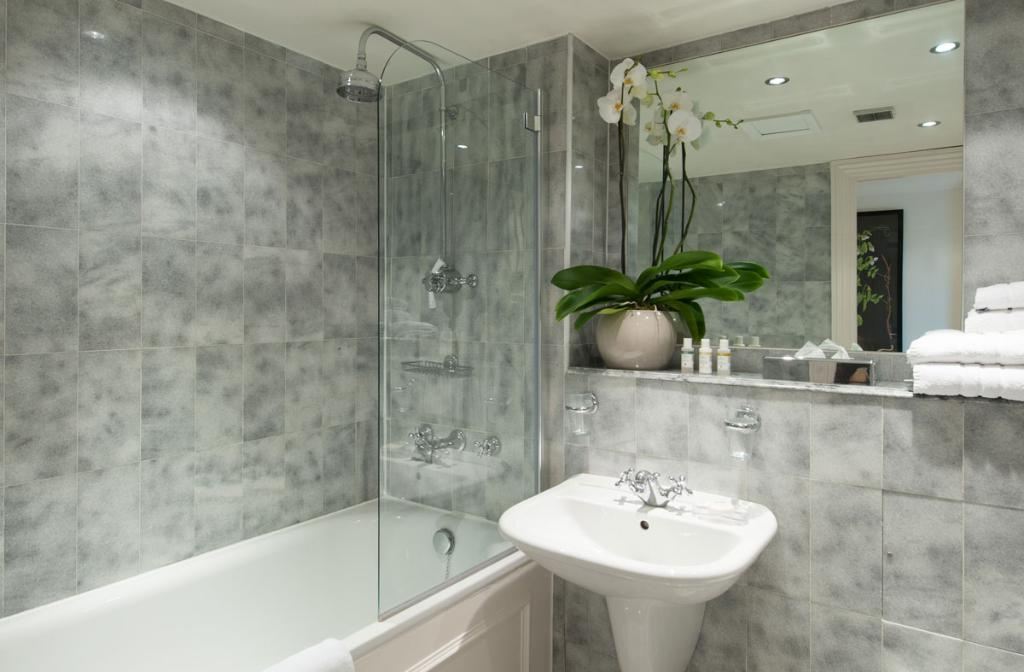tap: (631, 463, 671, 505)
